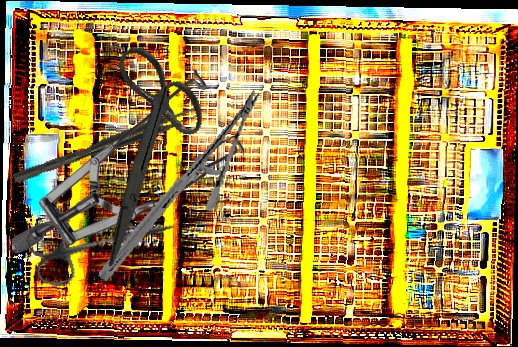Iris Scissors: (46, 32, 240, 268), (23, 192, 183, 291)
Needle Holder: (97, 67, 262, 304)
Speculum: (12, 68, 244, 255)
Tissue Forceps: (10, 104, 203, 184)
